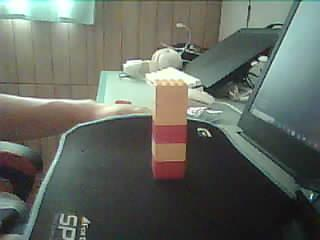lego: (151, 78, 189, 180)
